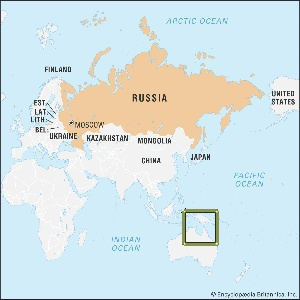square: (181, 208, 219, 246)
